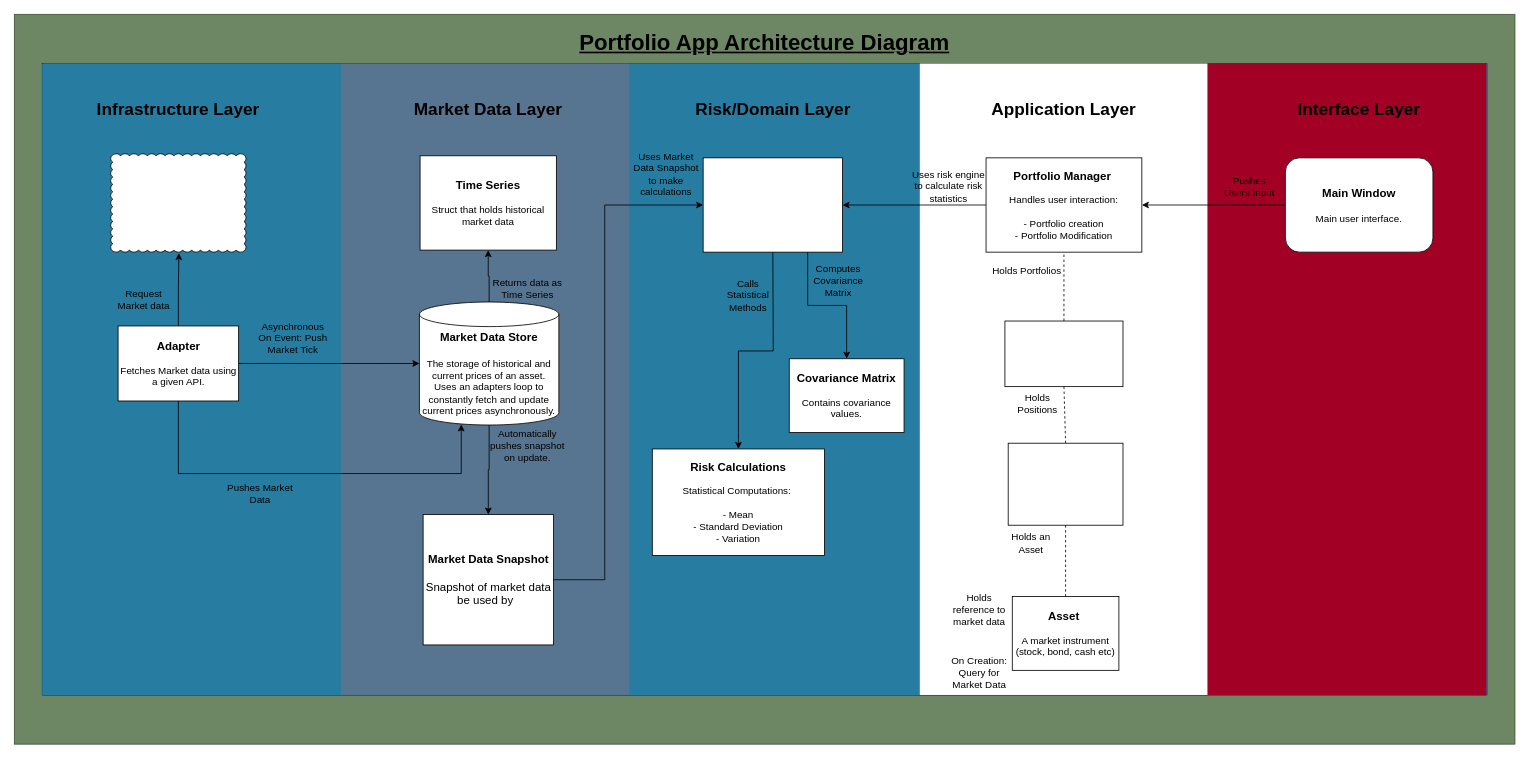
Some shapes in this 1529 by 765 pixel diagram are drawn without their labels. The box of each missing label's shape, as (x1, y1, x2, y2) in pixels:
Alpha Vantage API Provides "real-time" and historical market data .: (110, 153, 246, 252)
Portfolio A collection of positions held.: (1004, 320, 1123, 387)
Position Exposure of the portfolio to a certain instrument.: (1007, 442, 1123, 525)
Risk Engine Computes risk metrics for a portfolio.: (702, 157, 843, 252)
